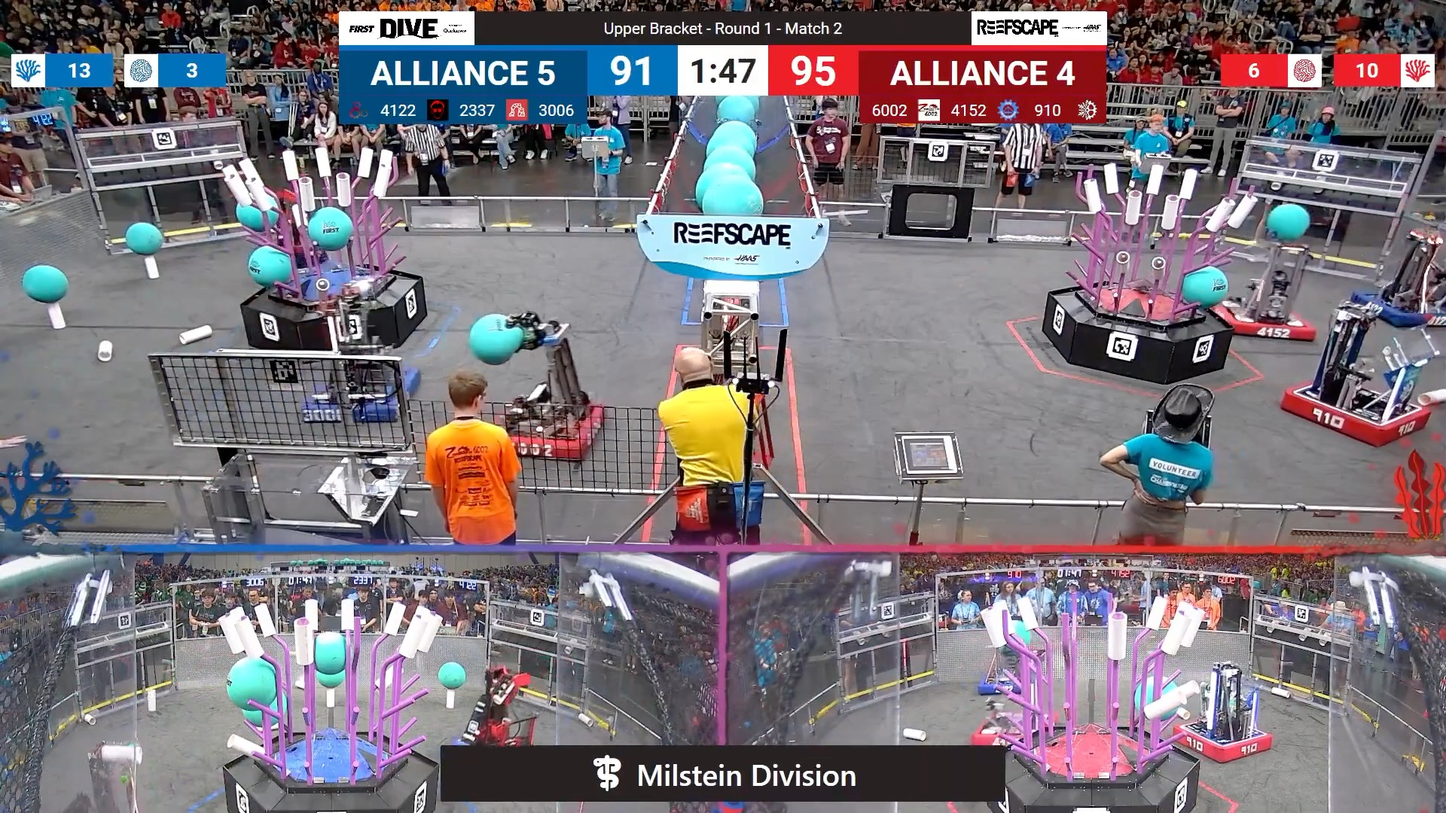bumpers: (1273, 378, 1430, 449), (488, 396, 615, 462), (297, 362, 418, 427), (1210, 300, 1320, 348), (1168, 719, 1279, 764), (1345, 291, 1445, 330)
